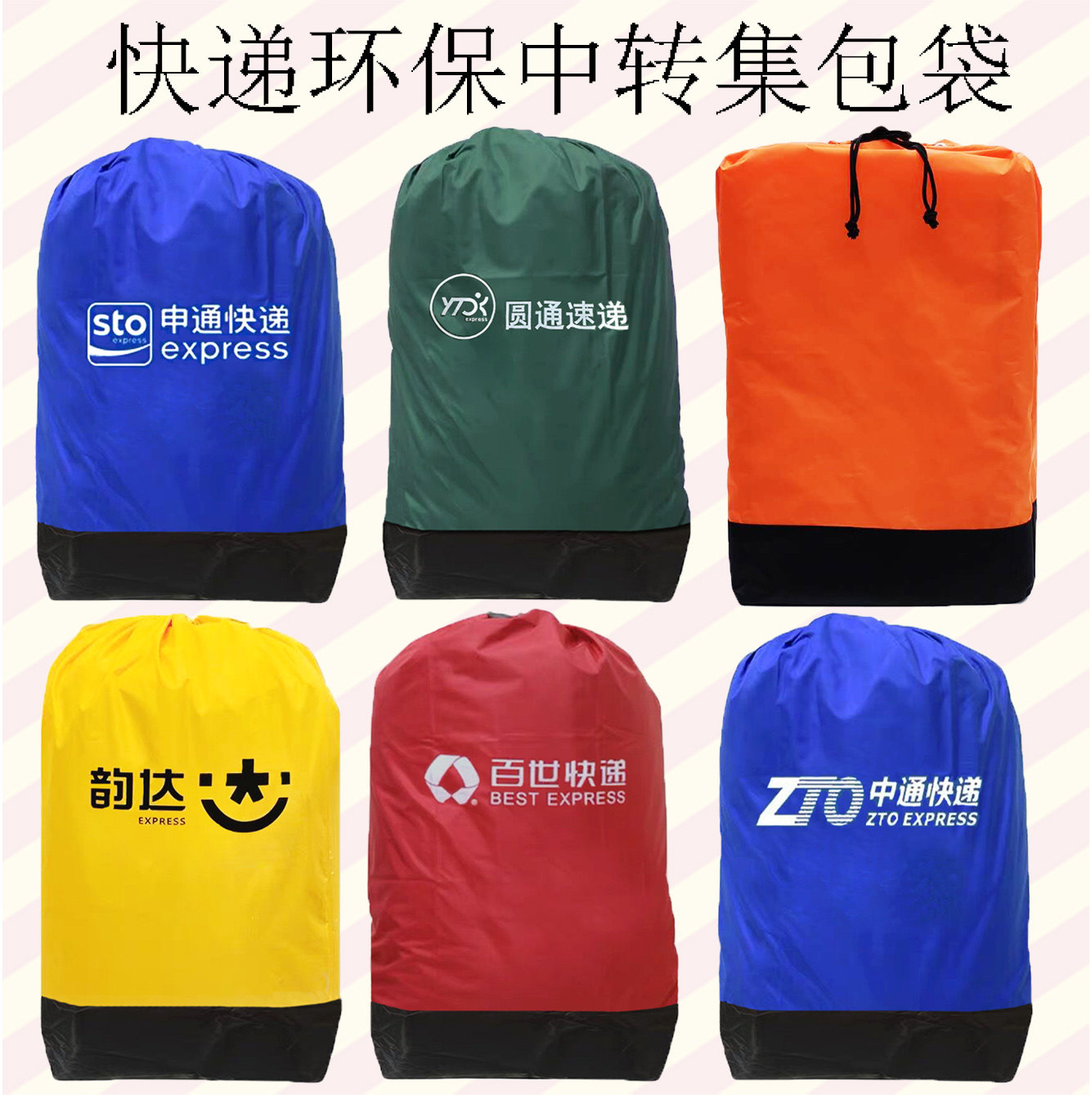Parcel: (716, 127, 1042, 606), (719, 615, 1032, 1082), (368, 610, 678, 1080), (384, 128, 690, 601), (37, 139, 346, 602), (41, 615, 341, 1082)
